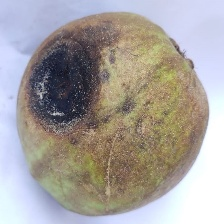guava: (12, 15, 207, 198)
